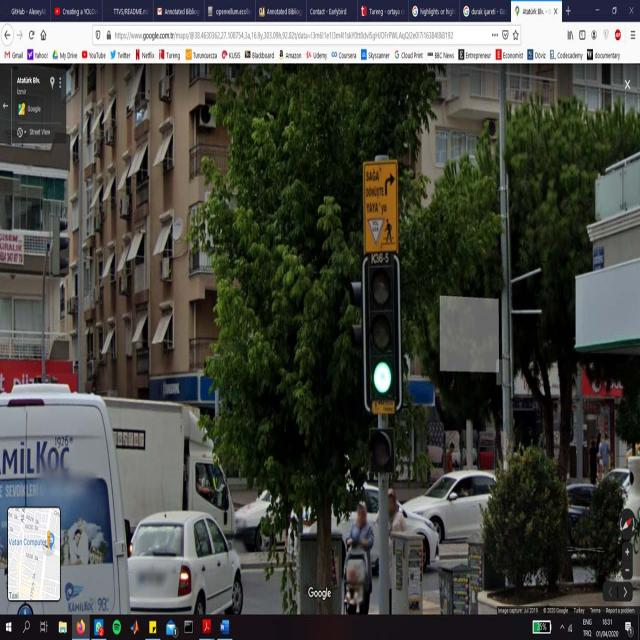yesil: (365, 259, 399, 405)
